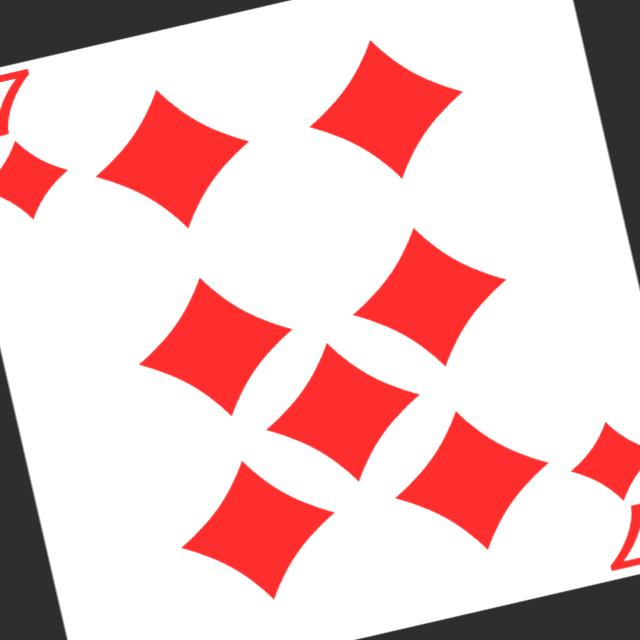Diamond: (334, 208, 524, 386), (249, 323, 436, 500), (164, 442, 352, 618), (123, 258, 310, 434), (79, 70, 266, 246), (378, 392, 564, 568), (292, 22, 480, 196), (0, 129, 77, 231), (562, 411, 640, 511)
